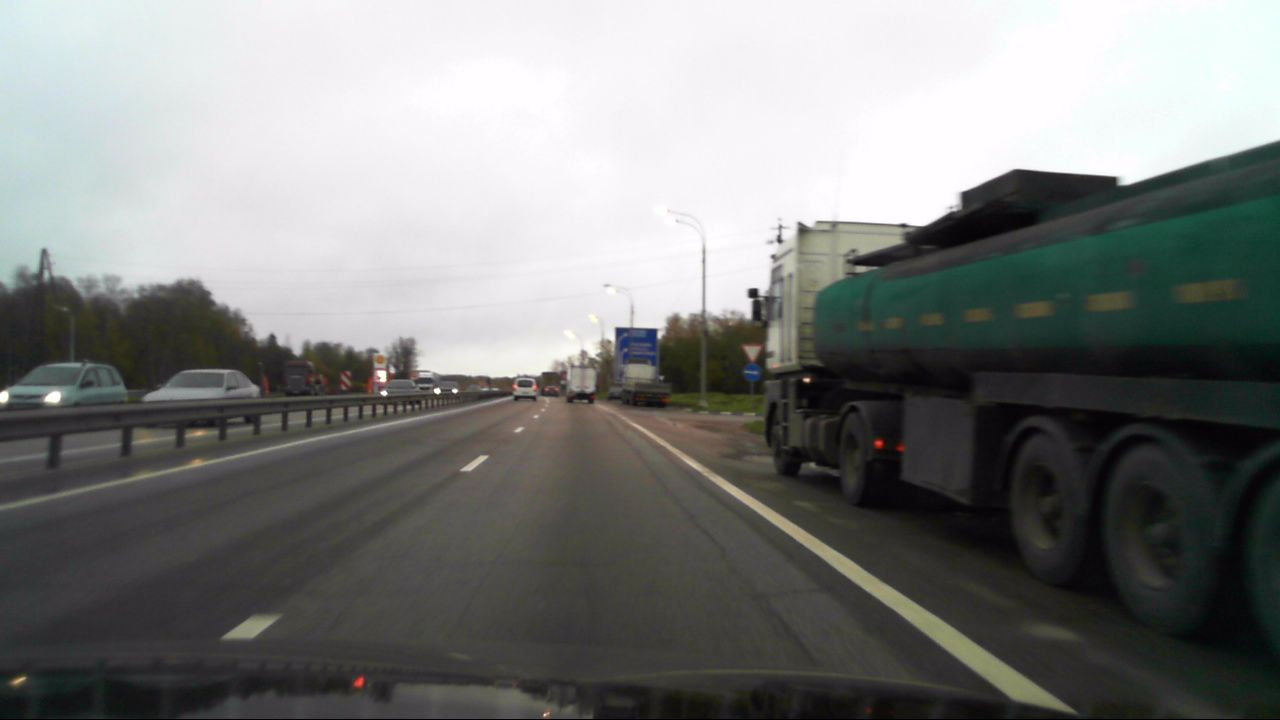Turn Right: (742, 363, 763, 383)
